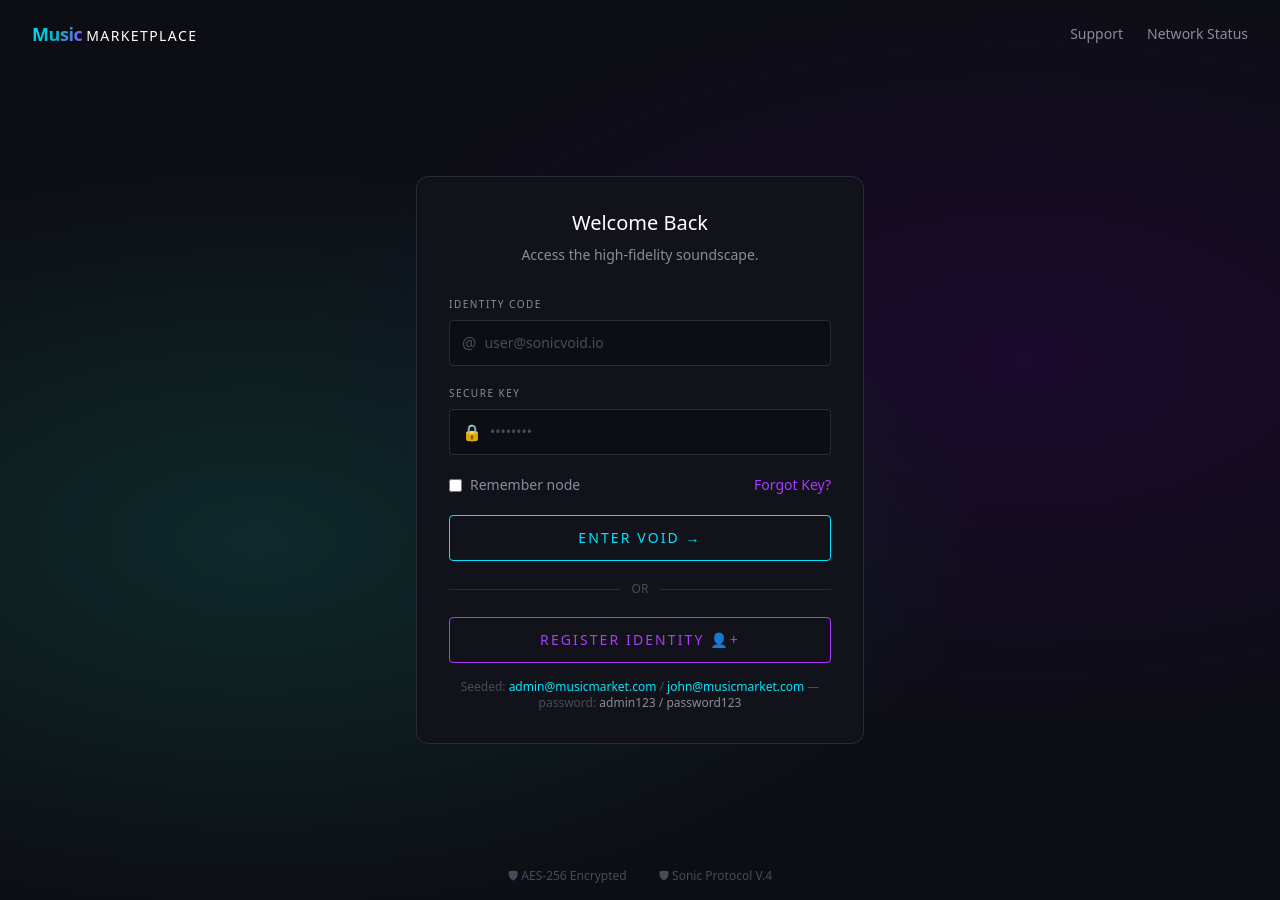
Scenario: LoginPage › validates password minimum length
The width and height of the screenshot is (1280, 900).
Type "test@example.com" into the field with placeholder "user@sonicvoid.io" at (651,343), box [484,333,818,353]
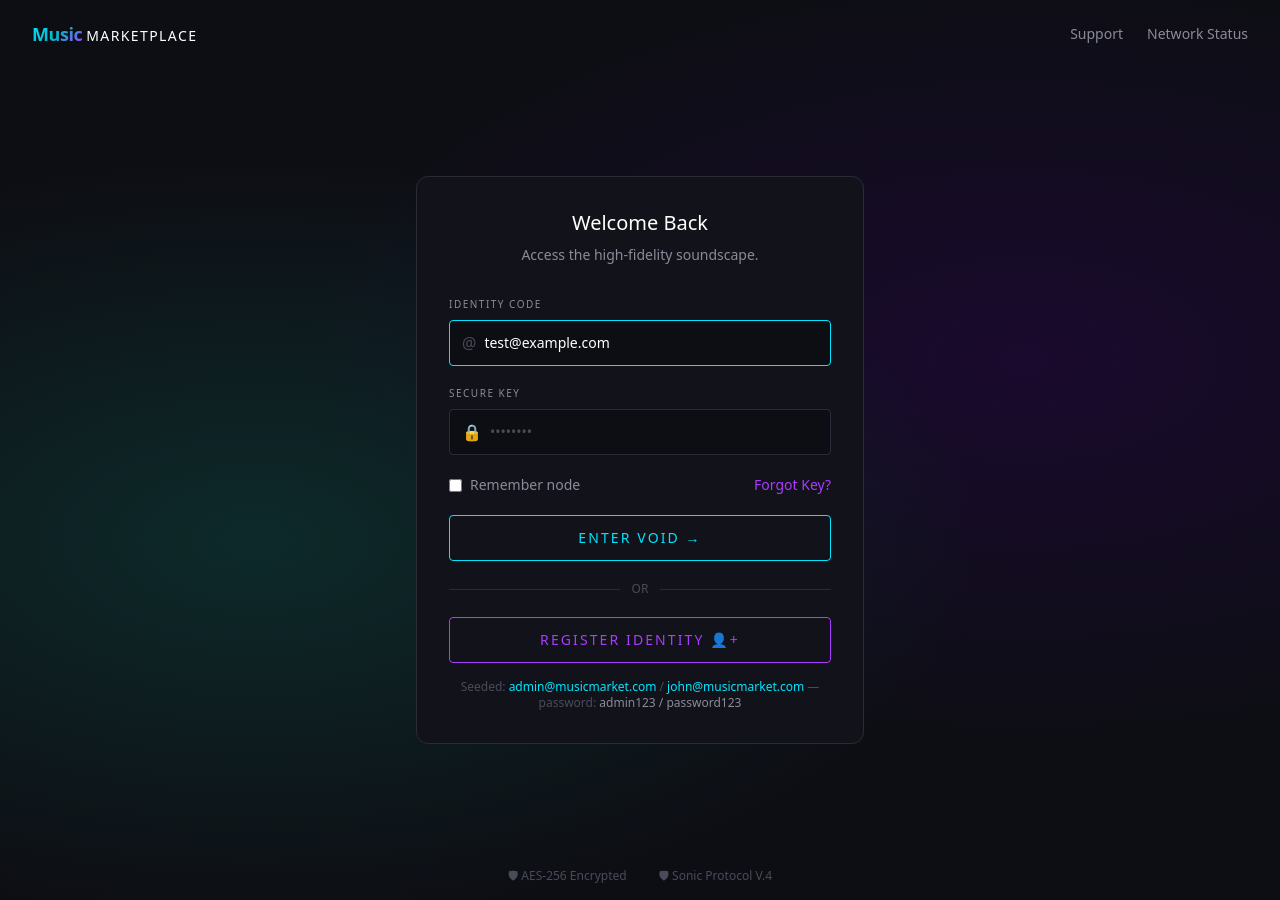
Type "123" into the password field with placeholder "••••••••" at (654,432), box [490,422,818,442]
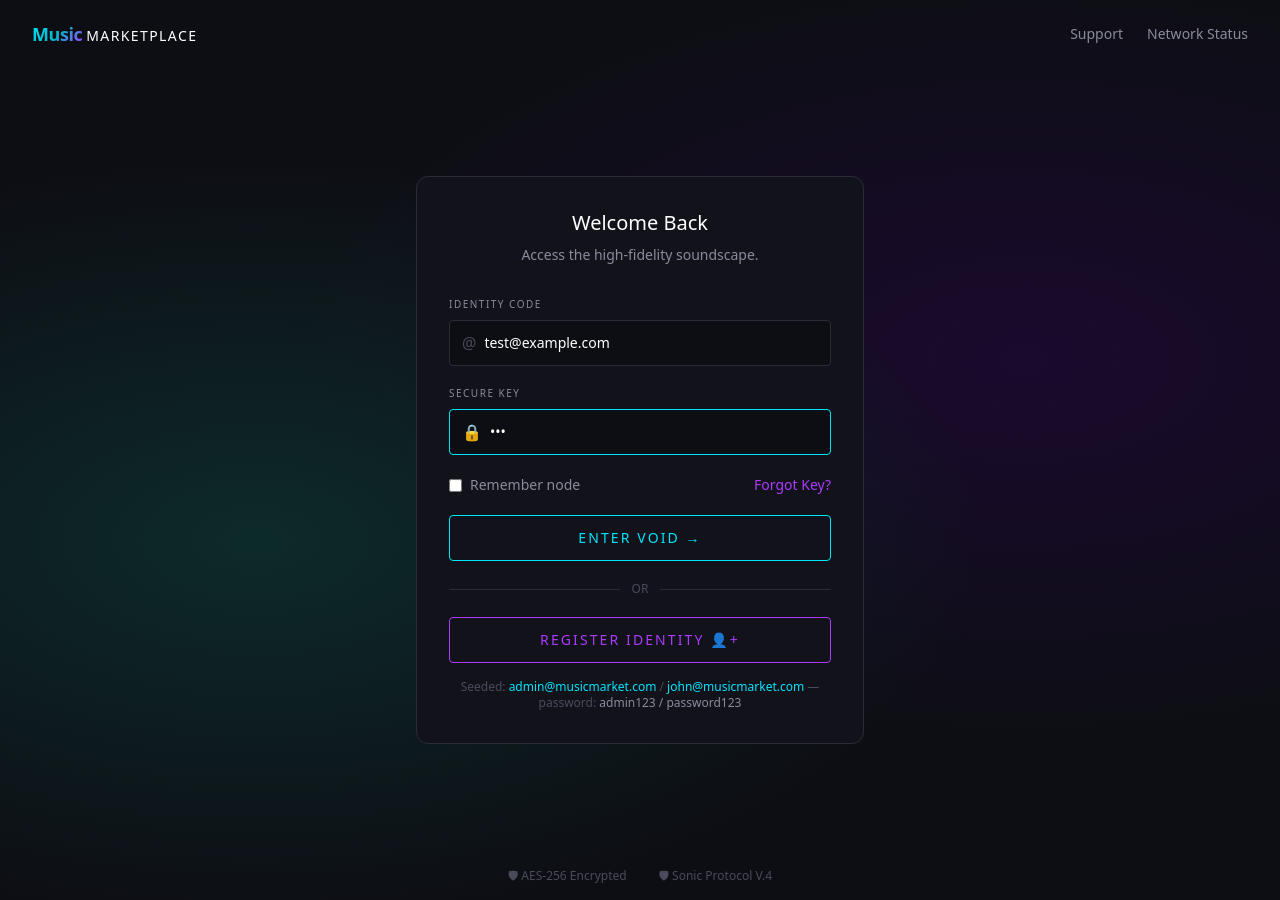
Click the button "Enter Void →" at (640,538), box [449,515,831,561]
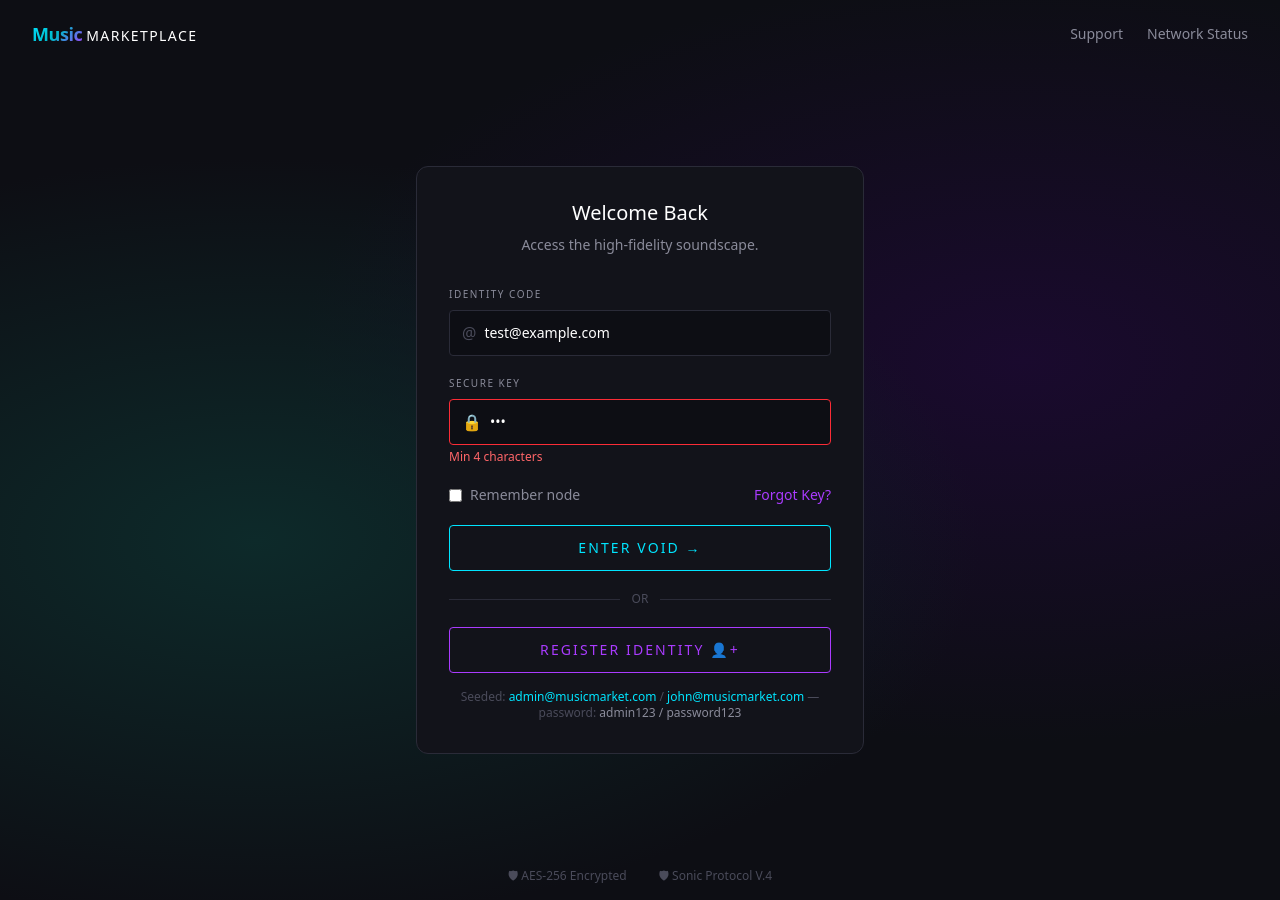
Expected: the text "Min 4 characters" is shown, [449,448,542,465]
